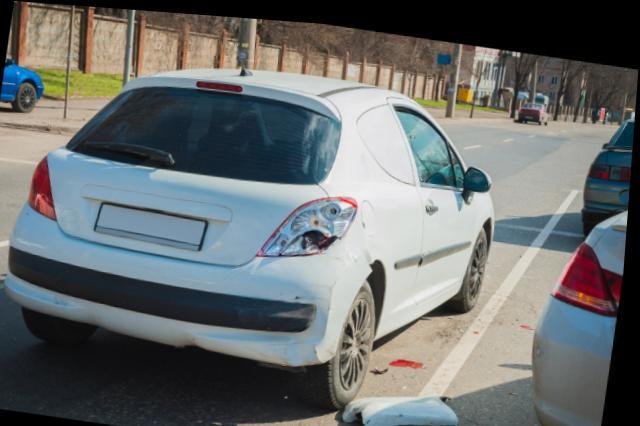lamp broken: (260, 191, 361, 252)
